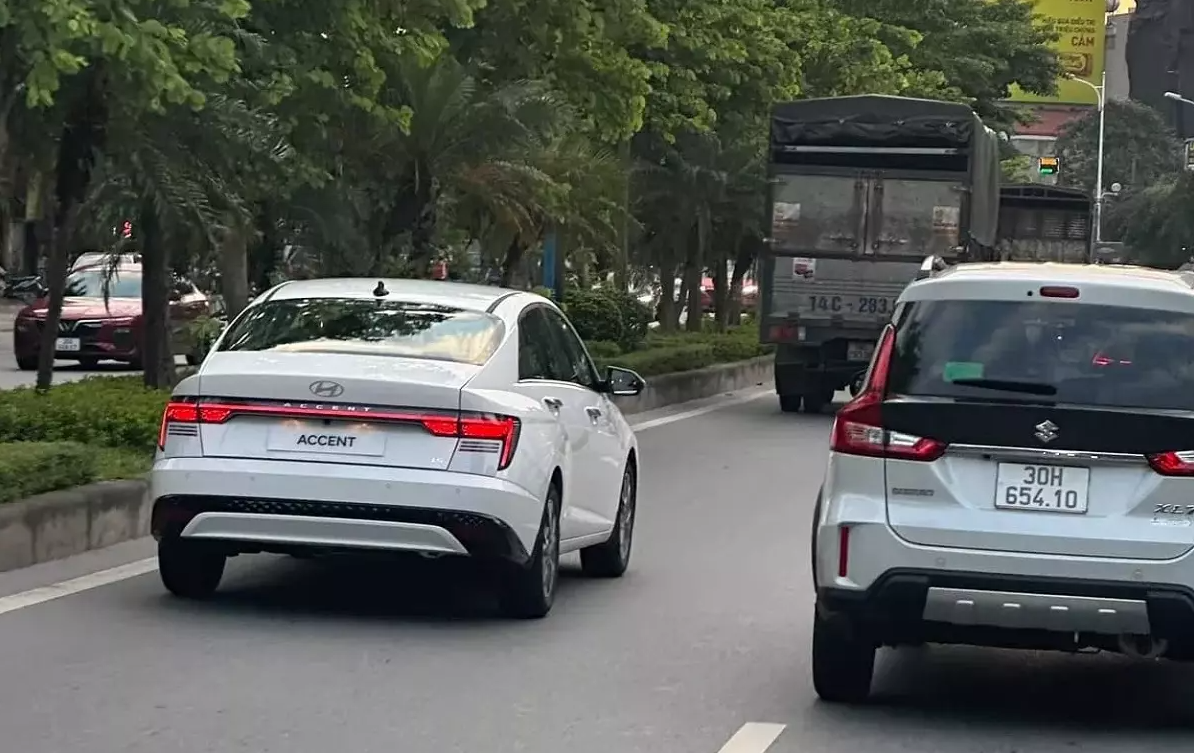number_plate: (995, 466, 1096, 520)
